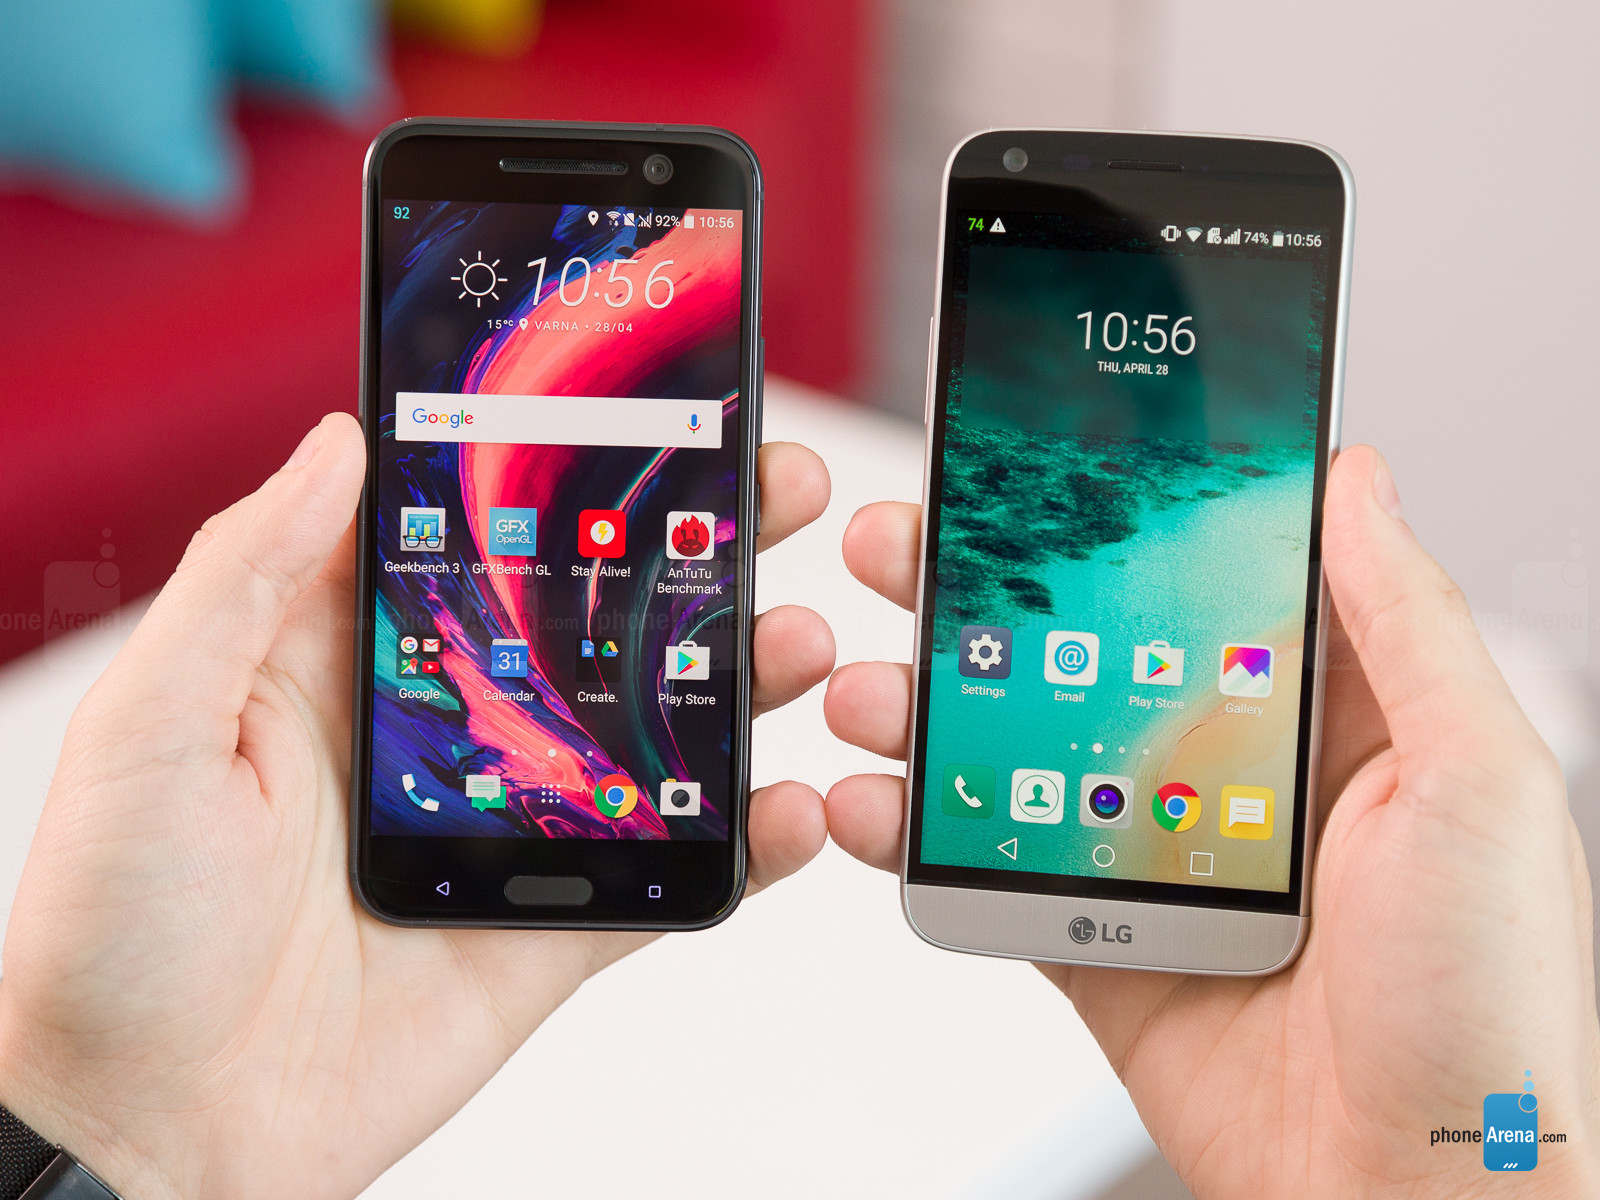smartphone: (900, 127, 1358, 977), (346, 120, 766, 933)
